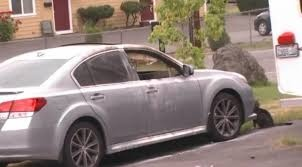Broken-glass: (119, 45, 185, 81)
Dent: (138, 84, 168, 108)
